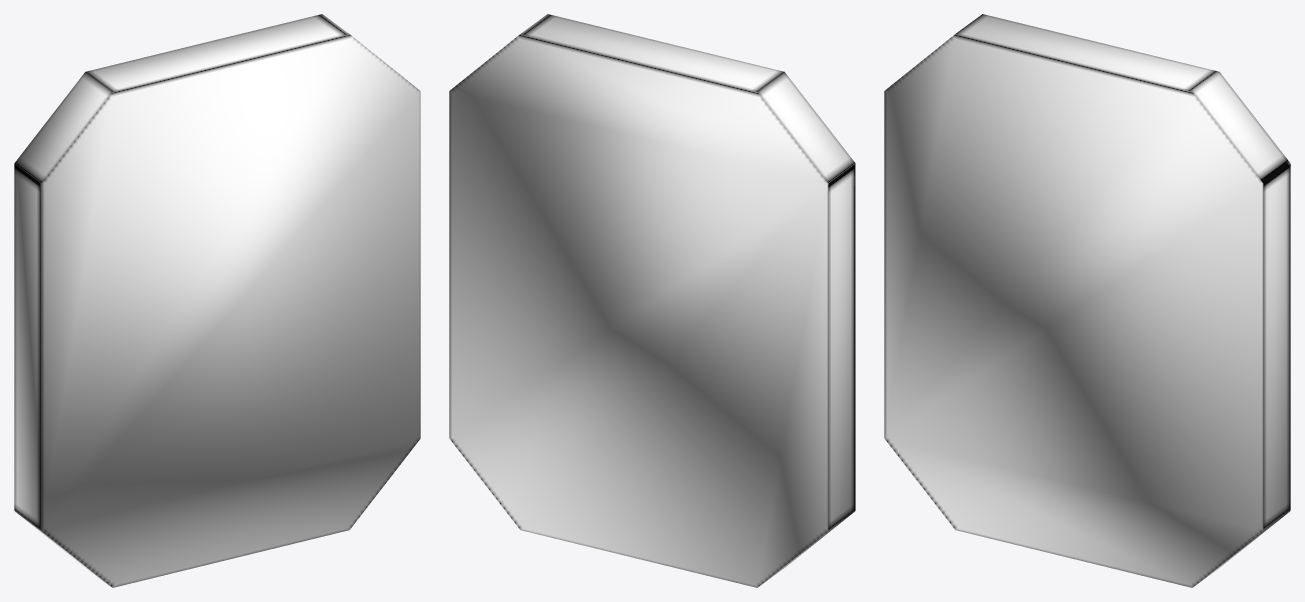
The model's file is magnetic_card2.obj.
3 renders of one model, left to right at view 1: azimuth 30°, elevation 25°; view 2: azimuth 150°, elevation 25°; view 3: azimuth 330°, elevation 25°, orthographic.
Visible parts, largest first — view 1: cube1; view 2: cube1; view 3: cube1.
Boxes of the visible parts, box(x1,y1,x2,y2) form: cube1: box(14, 14, 420, 587); cube1: box(449, 14, 855, 587); cube1: box(884, 14, 1290, 587).
Size of the model in its own units: 0.8 by 1 by 0.1.
1 material, 1 textured.
